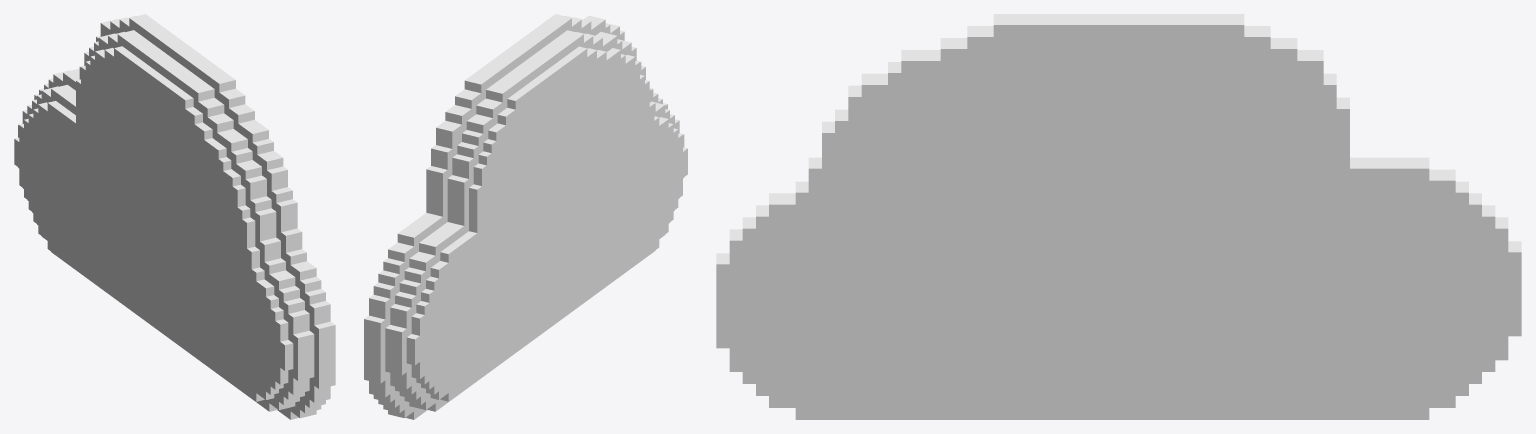
Rendered from cloud.obj.
The picture shows the model from 3 angles, left to right: view 1: azimuth 30°, elevation 25°; view 2: azimuth 150°, elevation 25°; view 3: azimuth 270°, elevation 25°; orthographic projection. The views are drawn at different scales.
Size of the model in its own units: 0.5 by 3.3 by 6.1.
1 material, 1 textured.
